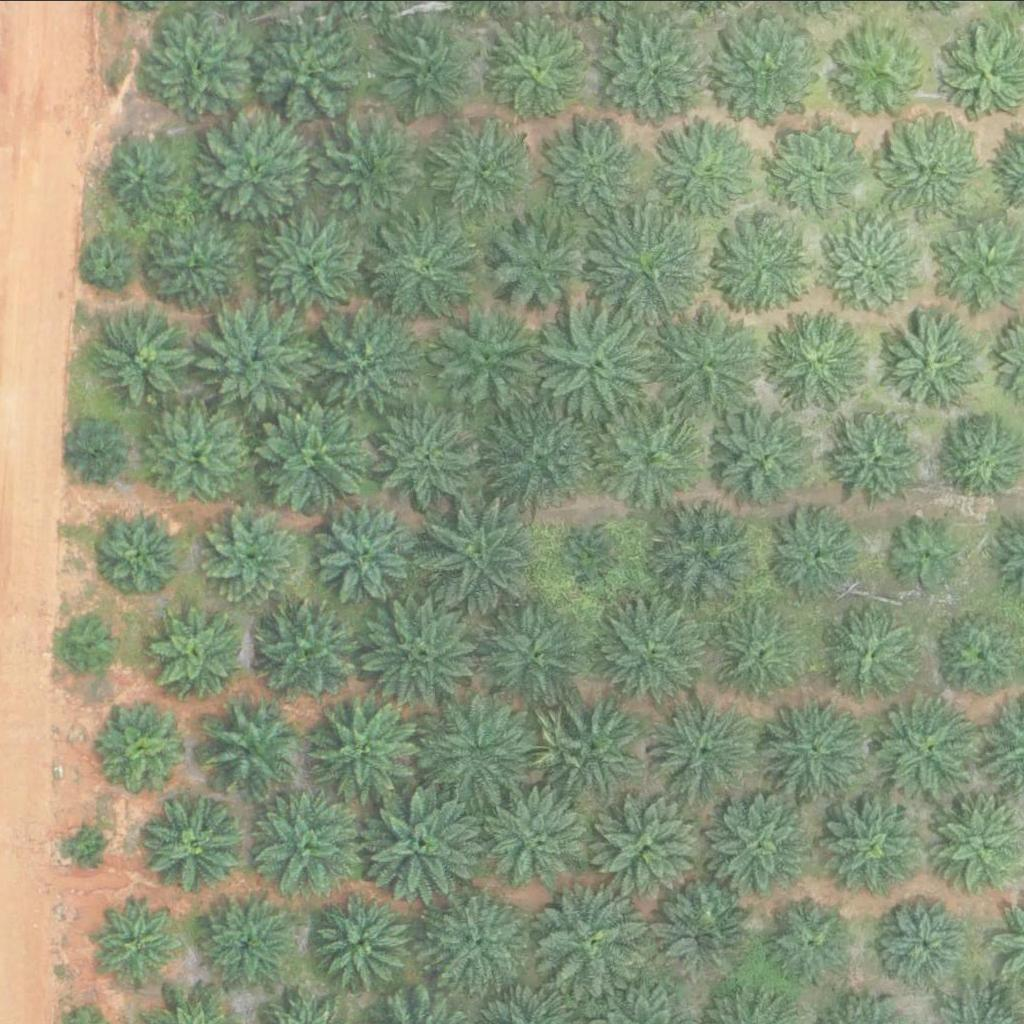Kelapa_Sawit: (362, 783, 488, 908), (419, 690, 545, 815), (361, 594, 487, 719), (420, 489, 546, 614), (251, 388, 377, 513), (480, 392, 606, 517), (300, 305, 426, 430), (531, 295, 657, 420), (362, 200, 488, 325), (587, 205, 713, 330), (246, 12, 372, 137), (593, 7, 719, 132), (645, 299, 771, 424), (532, 880, 657, 1005), (254, 204, 379, 329), (310, 692, 424, 805), (251, 592, 365, 705), (646, 493, 760, 606), (478, 600, 591, 713), (595, 595, 708, 708), (200, 303, 313, 416), (432, 302, 545, 415), (488, 207, 601, 320), (542, 108, 655, 221), (717, 16, 830, 129), (650, 120, 763, 233), (760, 687, 873, 800), (873, 690, 986, 803), (595, 396, 709, 508), (245, 787, 358, 899), (481, 784, 594, 896), (530, 694, 643, 806), (312, 493, 425, 605), (369, 402, 482, 514), (203, 115, 316, 227), (315, 114, 428, 226), (709, 597, 822, 709), (643, 692, 756, 804), (195, 892, 296, 992), (311, 890, 412, 990), (427, 893, 528, 993), (599, 796, 700, 896), (205, 509, 306, 609), (146, 405, 247, 505), (94, 305, 195, 405), (148, 216, 249, 316), (382, 17, 483, 117), (483, 16, 584, 116), (829, 20, 930, 120), (770, 118, 871, 218), (881, 120, 982, 220), (714, 217, 815, 317), (823, 603, 924, 703), (713, 792, 814, 892), (824, 798, 925, 898), (650, 884, 751, 984), (140, 792, 240, 892), (198, 697, 298, 797), (823, 215, 923, 315), (772, 312, 872, 412), (882, 312, 982, 412), (716, 412, 816, 512), (829, 405, 929, 505), (771, 504, 871, 604), (770, 899, 859, 987), (95, 899, 183, 987), (150, 606, 238, 694), (99, 507, 187, 595), (438, 126, 526, 214), (882, 902, 970, 990), (104, 701, 192, 788), (886, 518, 962, 593), (107, 138, 182, 213), (566, 521, 629, 584), (69, 420, 132, 483), (62, 611, 125, 673), (86, 238, 136, 288), (70, 824, 108, 861)
